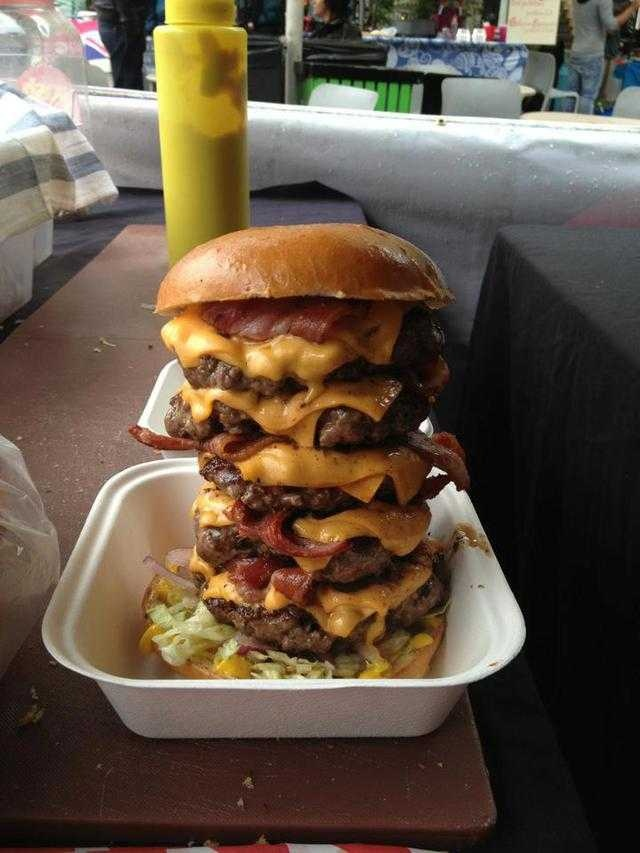hamburger: (163, 192, 469, 682)
